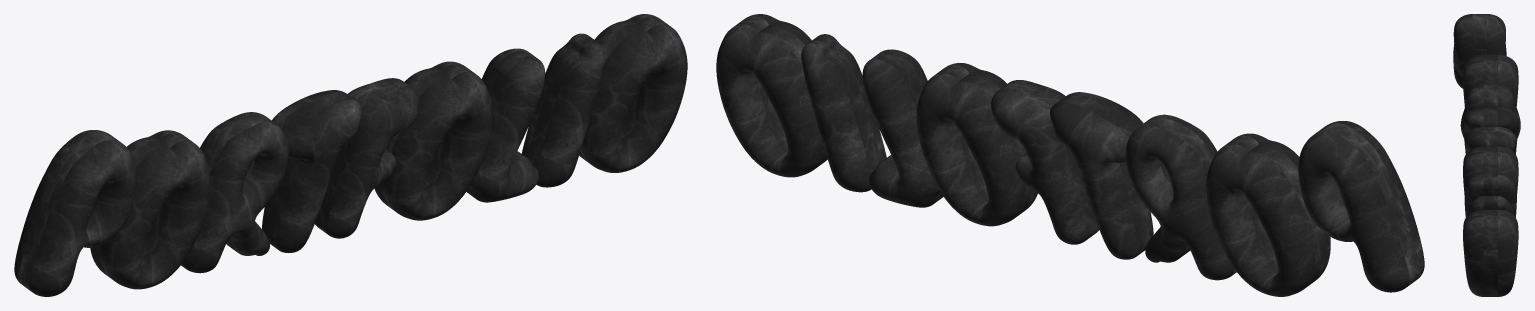
The model's file is portfolio3D.gltf.
3 renders of one model, left to right at view 1: azimuth 30°, elevation 25°; view 2: azimuth 150°, elevation 25°; view 3: azimuth 270°, elevation 25°, orthographic. The views are drawn at different scales.
Parts seen in each view (by area): view 1: Mesh_0.029, Mesh_0.021, Mesh_0.028, Mesh_0.022, Mesh_0.027, Mesh_0.026, Mesh_0.023, Mesh_0.024, Mesh_0.025; view 2: Mesh_0.022, Mesh_0.029, Mesh_0.021, Mesh_0.028, Mesh_0.027, Mesh_0.026, Mesh_0.023, Mesh_0.024, Mesh_0.025; view 3: Mesh_0.028, Mesh_0.029, Mesh_0.022, Mesh_0.021, Mesh_0.025, Mesh_0.027, Mesh_0.026, Mesh_0.023, Mesh_0.024.
Part boxes in pixels (x1,y1,x2,y2): Mesh_0.029: (14, 130, 137, 296); Mesh_0.021: (374, 61, 492, 220); Mesh_0.028: (579, 14, 687, 172); Mesh_0.022: (90, 130, 210, 289); Mesh_0.027: (181, 112, 288, 273); Mesh_0.026: (262, 90, 362, 252); Mesh_0.023: (315, 78, 419, 238); Mesh_0.024: (521, 33, 604, 187); Mesh_0.025: (466, 48, 545, 202); Mesh_0.022: (1206, 133, 1330, 296); Mesh_0.029: (1298, 121, 1424, 292); Mesh_0.021: (916, 63, 1037, 226); Mesh_0.028: (716, 14, 827, 177); Mesh_0.027: (1125, 114, 1236, 280); Mesh_0.026: (1049, 92, 1153, 259); Mesh_0.023: (991, 80, 1099, 244); Mesh_0.024: (801, 34, 886, 192); Mesh_0.025: (862, 49, 943, 207); Mesh_0.028: (1463, 209, 1518, 296); Mesh_0.029: (1453, 14, 1506, 88); Mesh_0.022: (1463, 54, 1518, 106); Mesh_0.021: (1463, 146, 1518, 195); Mesh_0.025: (1464, 173, 1516, 217); Mesh_0.027: (1460, 83, 1520, 137); Mesh_0.026: (1462, 106, 1519, 152); Mesh_0.023: (1464, 126, 1516, 154); Mesh_0.024: (1467, 196, 1514, 215).
Bounding box in the file's own units: 0.2845 × 0.067 × 0.0378.
Materials: 9 (9 with a texture image).
